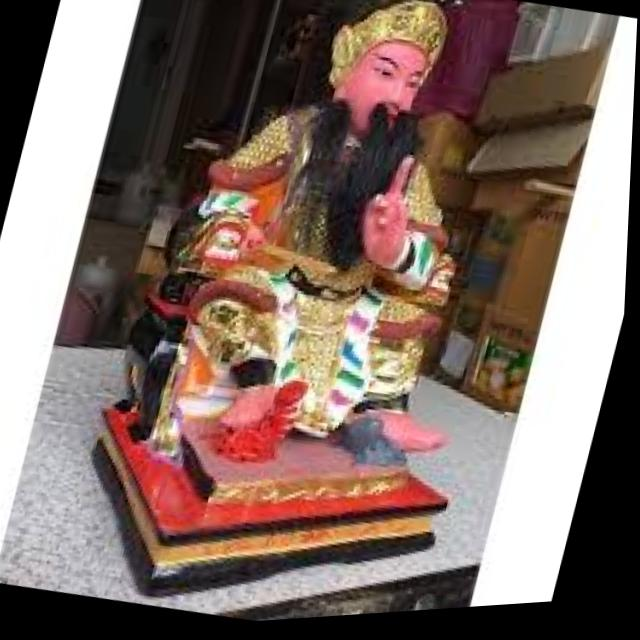Xuan wu: (152, 0, 504, 487)
